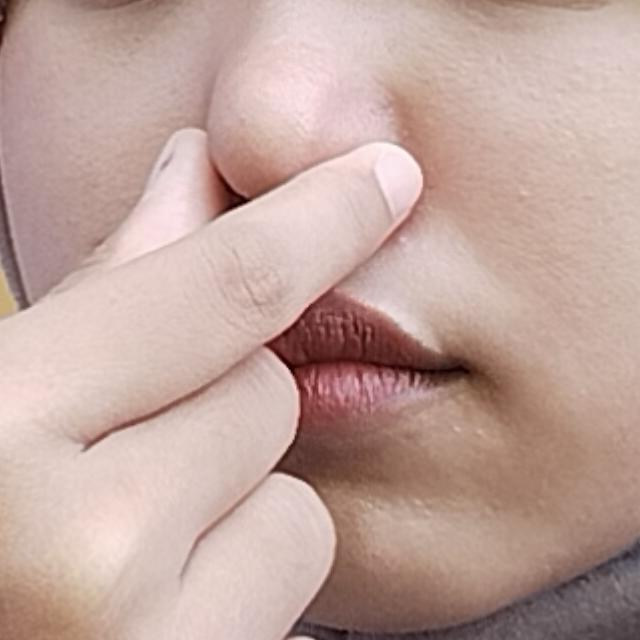bau: (0, 8, 476, 640)
